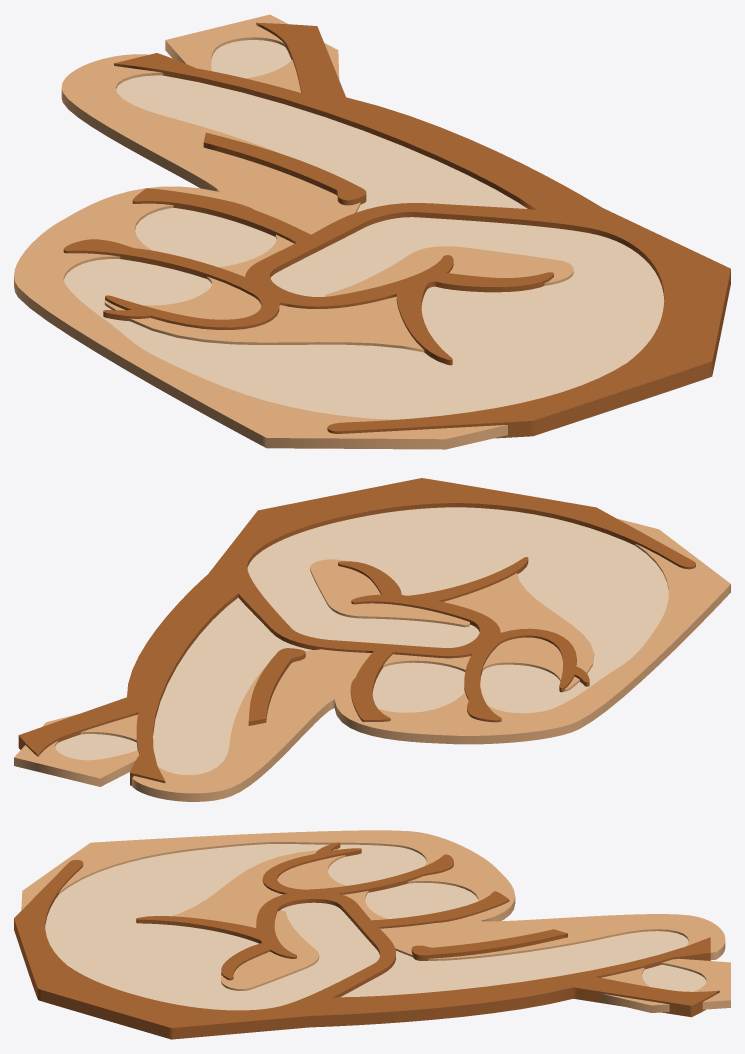
The model's file is emoji_u1f91e_1f3fb.glb.
3 views of the same model, one above another, from view 1: azimuth 30°, elevation 25°; view 2: azimuth 150°, elevation 25°; view 3: azimuth 270°, elevation 25° (orthographic). The views are drawn at different scales.
Visible parts, largest first — view 1: emoji_u1f91e_1f3fb; view 2: emoji_u1f91e_1f3fb; view 3: emoji_u1f91e_1f3fb.
Boxes of the visible parts, x1,y1,x2,y2 form: emoji_u1f91e_1f3fb: (14, 14, 730, 449); emoji_u1f91e_1f3fb: (14, 478, 730, 801); emoji_u1f91e_1f3fb: (14, 830, 730, 1039).
Bounding box in the file's own units: 0.0225 × 0.0008 × 0.0341.
